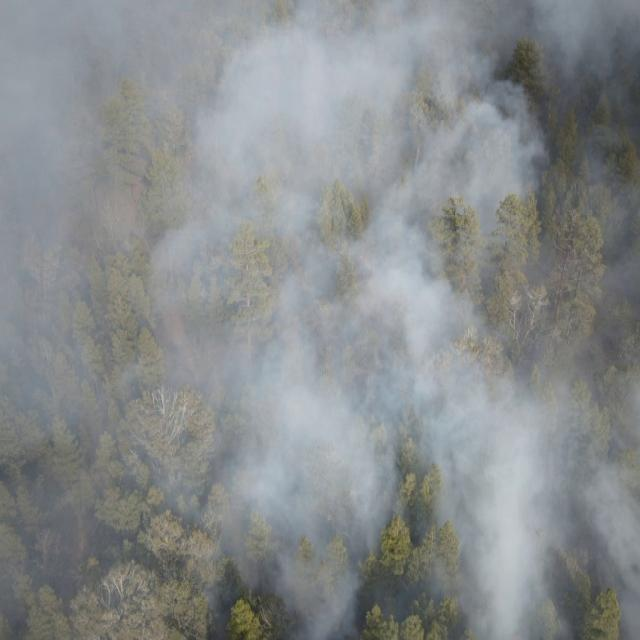smoke: (1, 0, 639, 511), (0, 510, 388, 598), (416, 512, 640, 640), (0, 599, 230, 639), (272, 599, 364, 640)
